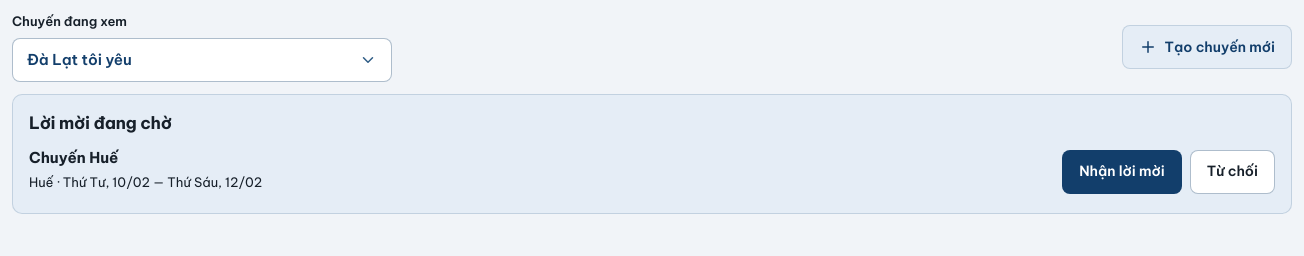
Test case: TripManager › lists trips with destination and dates and selects one by pointer
This screenshot has width=1304, height=256.
Click the dropdown named "Chuyến đang xem" at (202, 60), box [12,38,392,82]
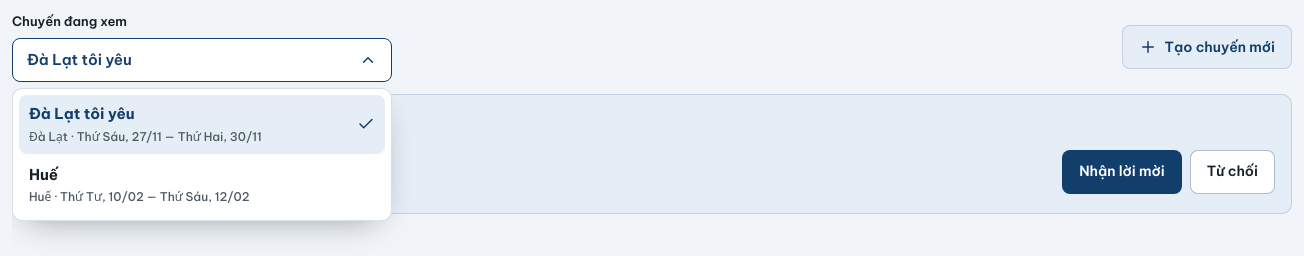
Check: the number of options is 2
Check: the option that starts with "Huế" shows "Huế ·"
Click the option that starts with "Huế" at (102, 196), box [29,164,250,204]
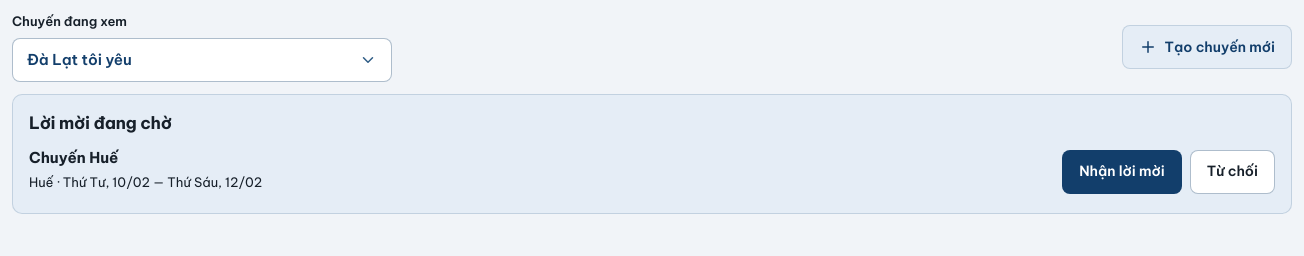
Check: the dropdown named "Chuyến đang xem" is collapsed, box [12,38,392,82]
